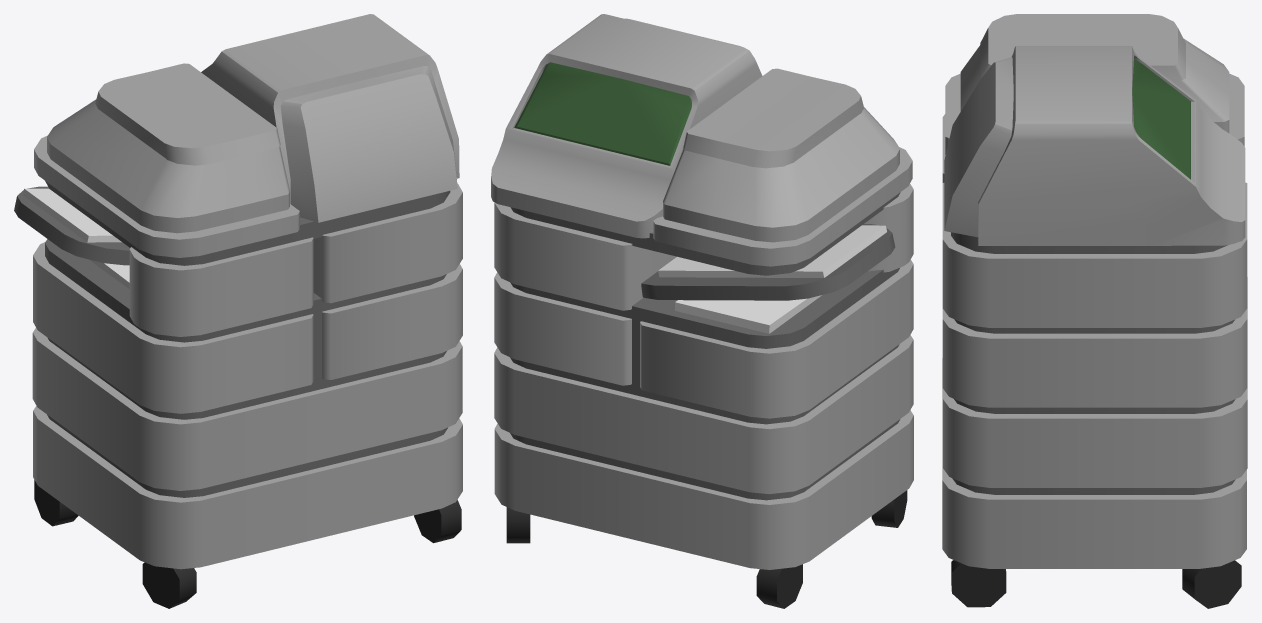
Rendered from Imprimante.fbx.
3 views of the same model, side by side, from view 1: azimuth 30°, elevation 25°; view 2: azimuth 150°, elevation 25°; view 3: azimuth 270°, elevation 25° (orthographic). The views are drawn at different scales.
Parts seen in each view (by area): view 1: Cube.081, cube.003, cube, cube.002, cube.011, cube.008, cube.012, cube.006, cube.005, cube.004, cube.010, cube.007 (+6 smaller); view 2: Cube.081, cube.003, cube, cube.002, cube.011, cube.012, cube.006, cube.005, cube.004, cube.010, cube.009, Cube.078 (+7 smaller); view 3: Cube.081, cube.006, cube.005, cube, cube.003, cube.012, cube.011, cube.004, cube.007, roue.003, roue.002, cube.001 (+1 smaller).
Part boxes in pixels (x1=…): Cube.081: x1=201, y1=14, x2=459, y2=222; cube.003: x1=32, y1=328, x2=462, y2=490; cube: x1=33, y1=406, x2=462, y2=569; cube.002: x1=33, y1=242, x2=313, y2=413; cube.011: x1=47, y1=99, x2=289, y2=233; cube.008: x1=129, y1=237, x2=313, y2=336; cube.012: x1=95, y1=63, x2=280, y2=165; cube.006: x1=313, y1=183, x2=462, y2=303; cube.005: x1=322, y1=264, x2=462, y2=379; cube.004: x1=45, y1=239, x2=446, y2=419; cube.010: x1=34, y1=135, x2=299, y2=257; cube.007: x1=45, y1=181, x2=450, y2=265; Cube.081: x1=491, y1=14, x2=762, y2=238; cube.003: x1=494, y1=335, x2=913, y2=494; cube: x1=494, y1=410, x2=913, y2=569; cube.002: x1=640, y1=259, x2=913, y2=418; cube.011: x1=663, y1=107, x2=899, y2=242; cube.012: x1=683, y1=68, x2=863, y2=168; cube.006: x1=494, y1=202, x2=676, y2=310; cube.005: x1=494, y1=272, x2=631, y2=385; cube.004: x1=510, y1=268, x2=899, y2=424; cube.010: x1=653, y1=147, x2=912, y2=266; cube.009: x1=641, y1=224, x2=895, y2=300; Cube.078: x1=658, y1=225, x2=886, y2=277; Cube.081: x1=944, y1=46, x2=1245, y2=245; cube.006: x1=942, y1=182, x2=1247, y2=327; cube.005: x1=942, y1=309, x2=1247, y2=407; cube: x1=942, y1=358, x2=1246, y2=568; cube.003: x1=943, y1=277, x2=1247, y2=487; cube.012: x1=980, y1=14, x2=1185, y2=80; cube.011: x1=960, y1=38, x2=1229, y2=132; cube.004: x1=954, y1=319, x2=1235, y2=413; cube.007: x1=951, y1=232, x2=1227, y2=253; roue.003: x1=1182, y1=560, x2=1241, y2=608; roue.002: x1=951, y1=560, x2=1006, y2=607; cube.001: x1=952, y1=478, x2=1235, y2=494.
Bounding box in the file's own units: 158 × 202 × 115.
